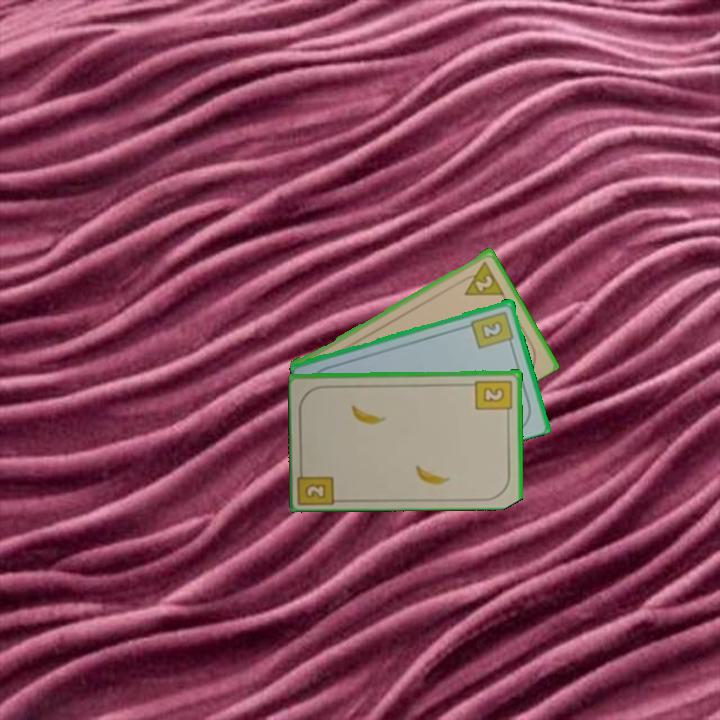2b: (468, 307, 516, 351), (297, 462, 339, 506), (473, 376, 515, 418)
2p: (455, 257, 506, 299)
